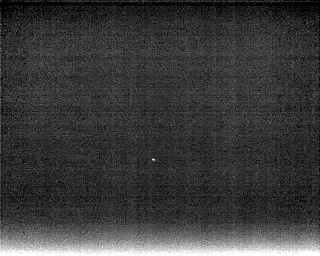BIRD: (150, 155, 157, 164)
